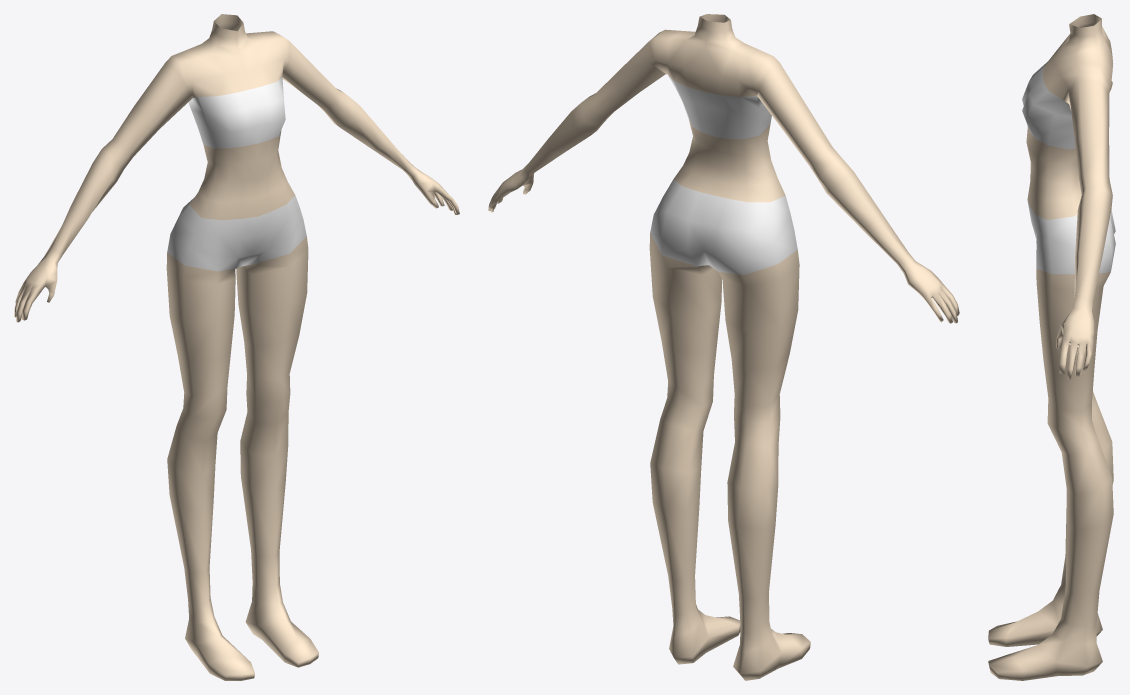
The model's file is human.fbx.
3 renders of one model, left to right at view 1: azimuth 30°, elevation 25°; view 2: azimuth 150°, elevation 25°; view 3: azimuth 270°, elevation 25°, orthographic. The views are drawn at different scales.
Visible parts, largest first — view 1: orian; view 2: orian; view 3: orian.
Boxes of the visible parts, x1=… form: orian: x1=14, y1=14, x2=459, y2=680; orian: x1=488, y1=14, x2=959, y2=680; orian: x1=988, y1=14, x2=1115, y2=680.
Size of the model in its own units: 106 by 142 by 25.85.
